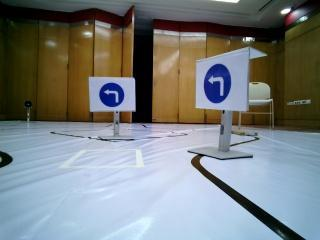left: (195, 61, 247, 113), (88, 75, 138, 111)
